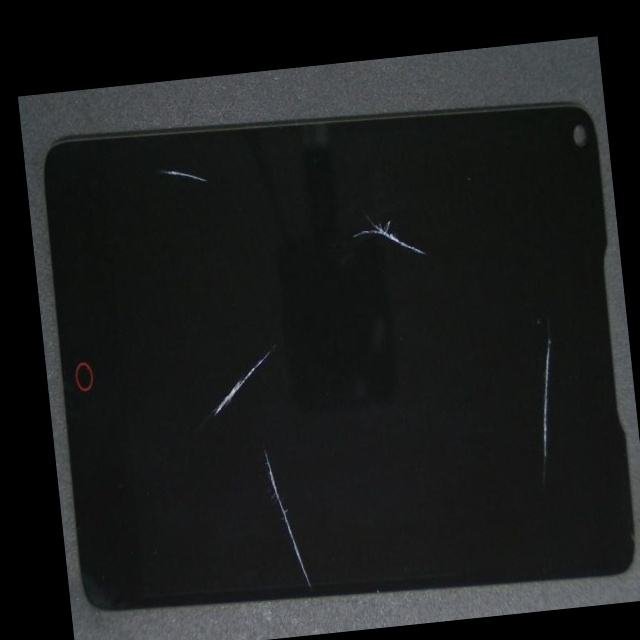scratch: (113, 184, 396, 640), (224, 118, 552, 311), (187, 151, 377, 482)
